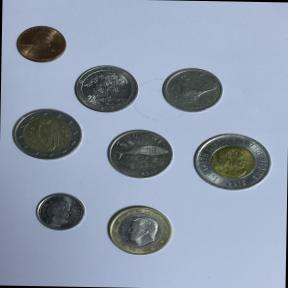coin: (188, 128, 274, 196), (7, 106, 86, 164), (102, 200, 174, 259), (103, 126, 176, 182), (70, 63, 141, 115), (32, 187, 90, 235), (12, 23, 69, 66)
